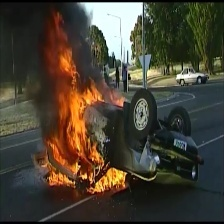fire: (34, 5, 114, 189)
